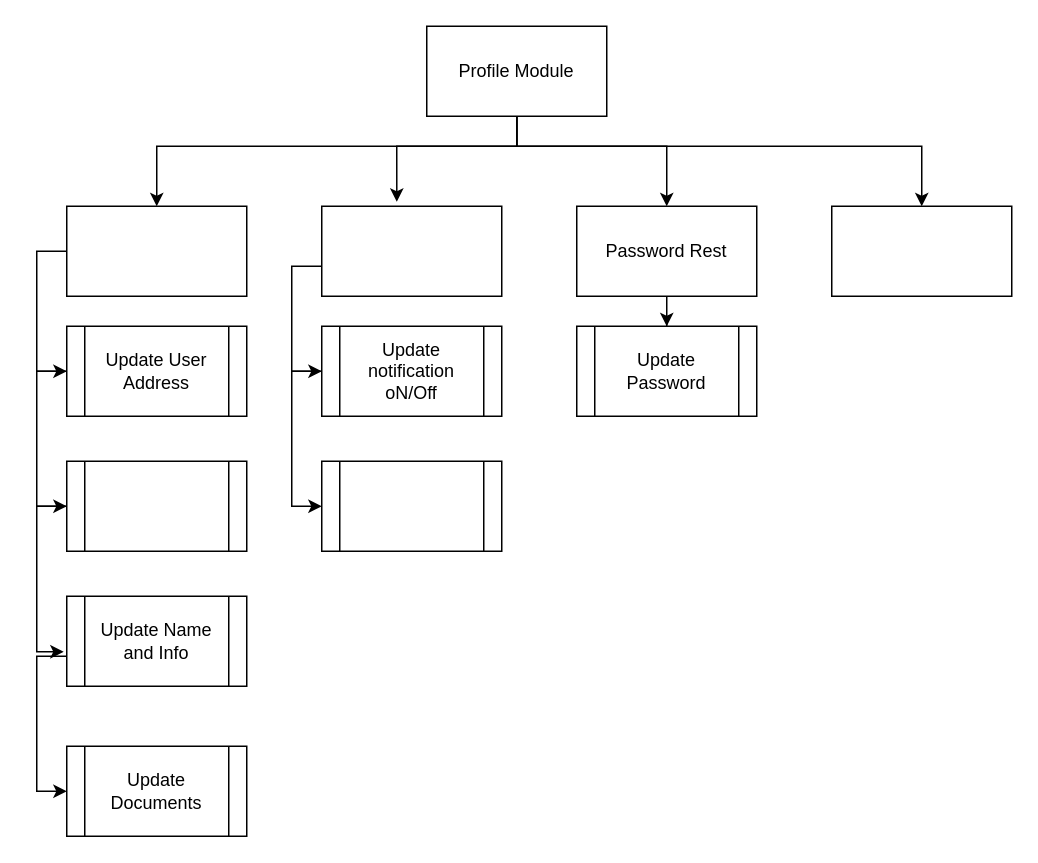
This 1038x863 diagram has some shape labels left out. The shapes that lost their labels are listed below. From the top down, each one's centre as x and y in pixels, then its label:
point (156, 250): Basic Info Page
point (411, 250): Settings Page
point (156, 505): Update Profile Pic
point (411, 505): Update Email On/Off
